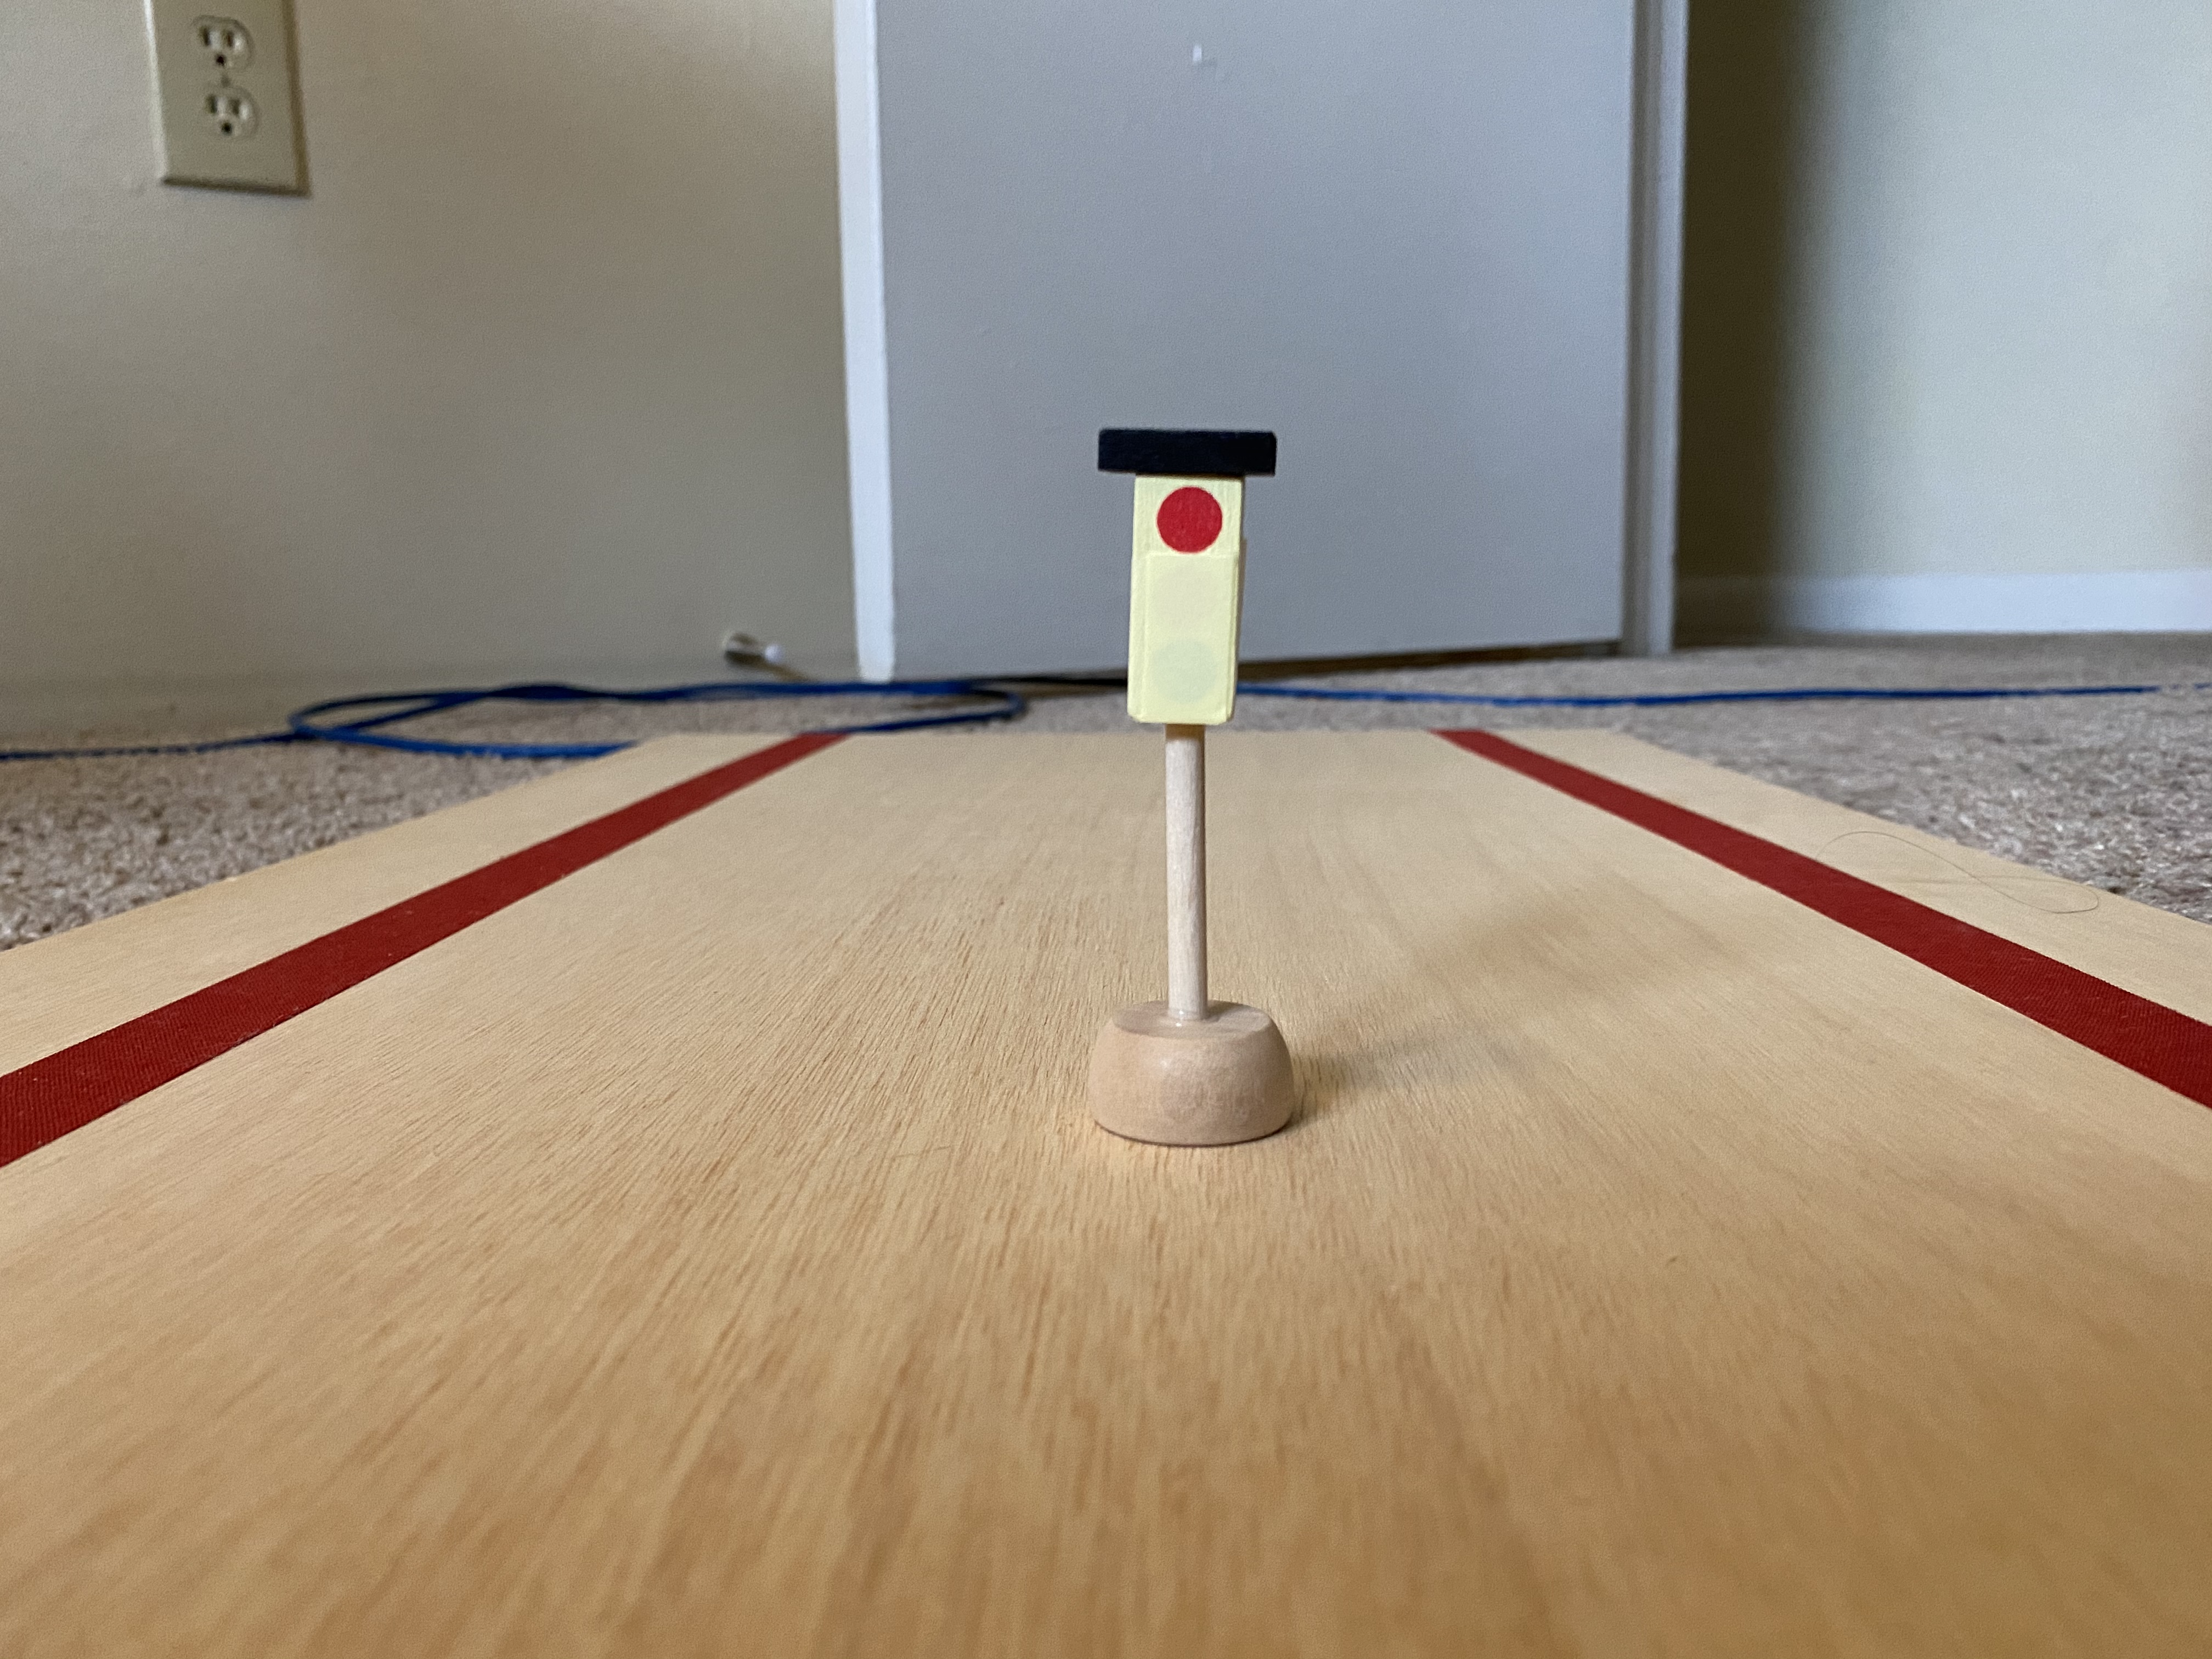Red Traffic Light: (1075, 399, 1284, 748)
